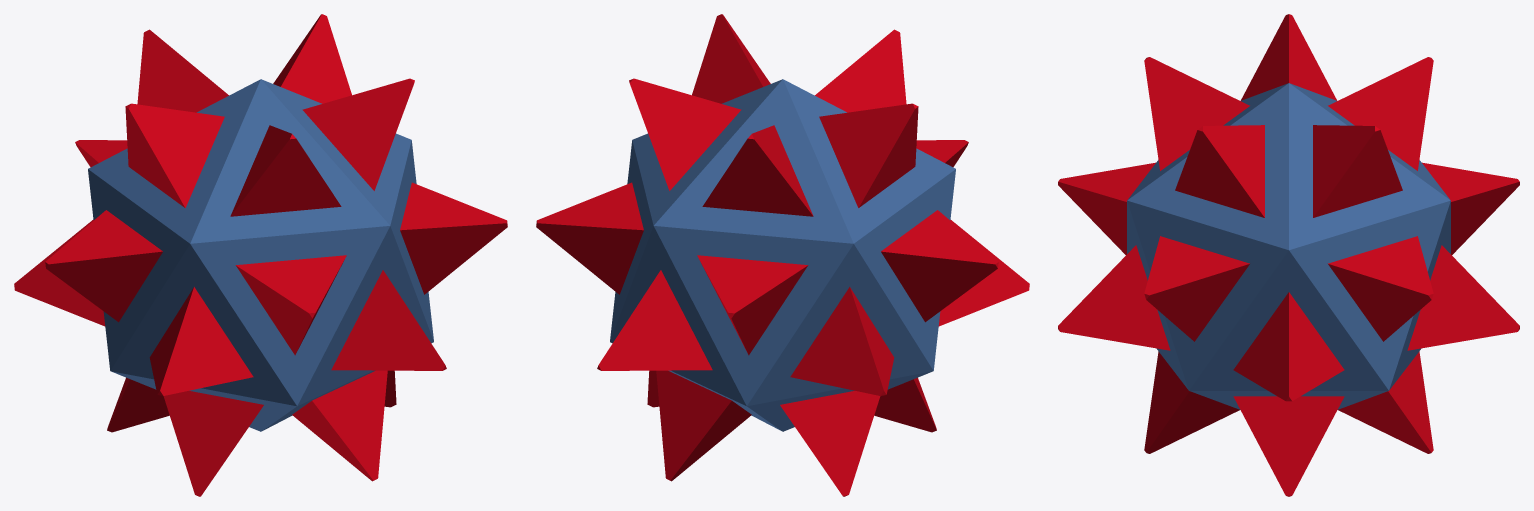
The model's file is SpikeBall.fbx.
3 views of the same model, side by side, from view 1: azimuth 30°, elevation 25°; view 2: azimuth 150°, elevation 25°; view 3: azimuth 270°, elevation 25° (orthographic). The views are drawn at different scales.
Parts seen in each view (by area): view 1: SpikeBall; view 2: SpikeBall; view 3: SpikeBall.
Part boxes in pixels (x1,y1,x2,y2): SpikeBall: (14, 14, 507, 496); SpikeBall: (536, 14, 1029, 496); SpikeBall: (1058, 14, 1519, 496).
Size of the model in its own units: 255 by 208 by 243.
